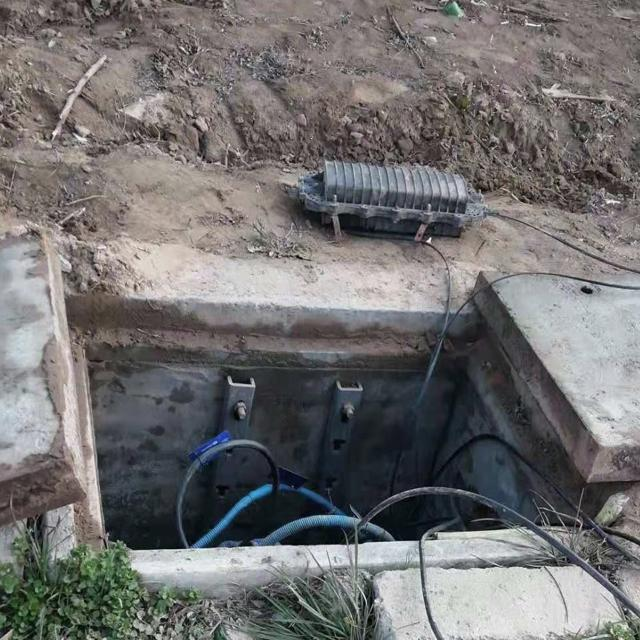uncovered: (0, 226, 640, 575)
